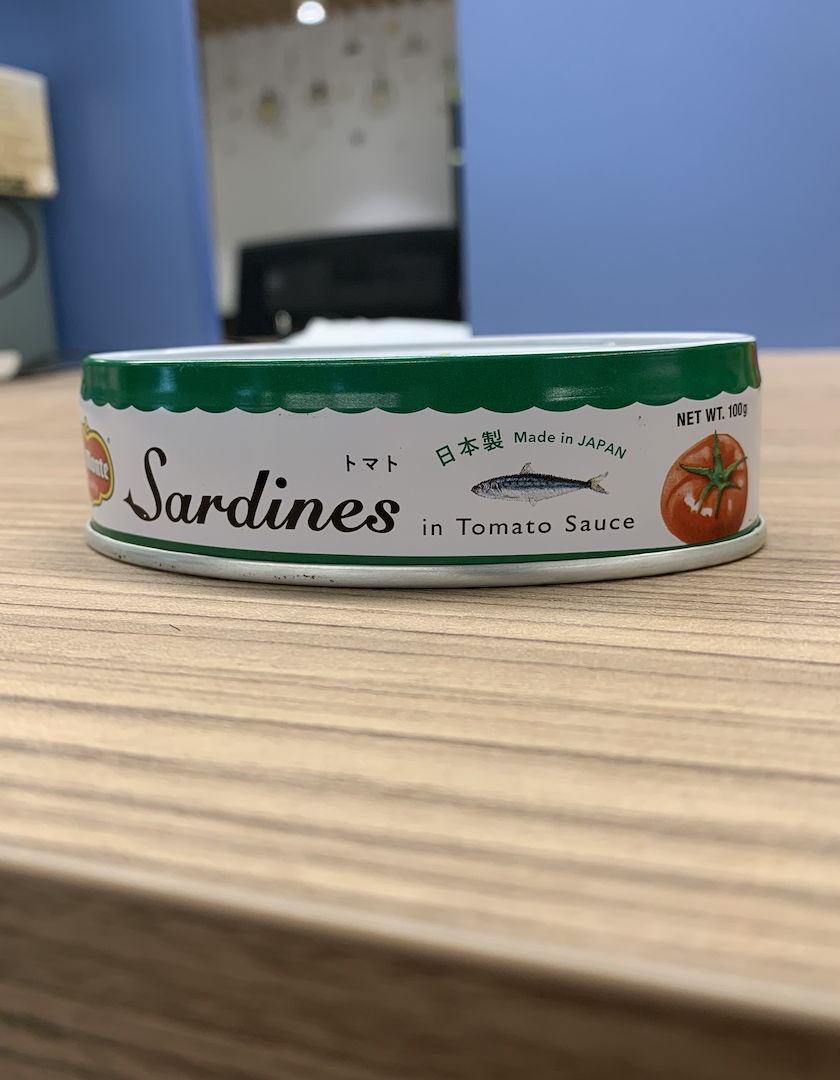sardines_150g: (93, 368, 759, 546)
